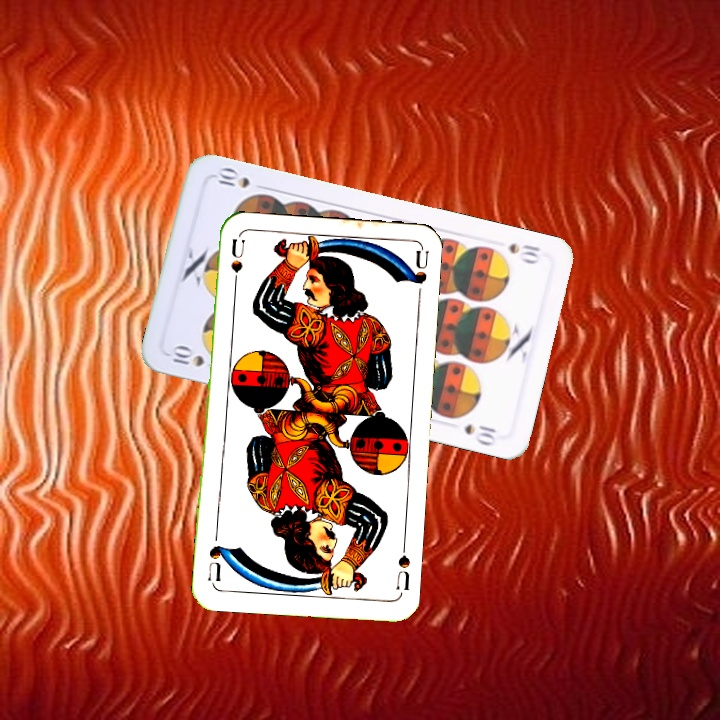S10: (164, 342, 207, 369), (505, 239, 543, 266)
SU: (227, 236, 248, 295), (392, 537, 413, 593)
